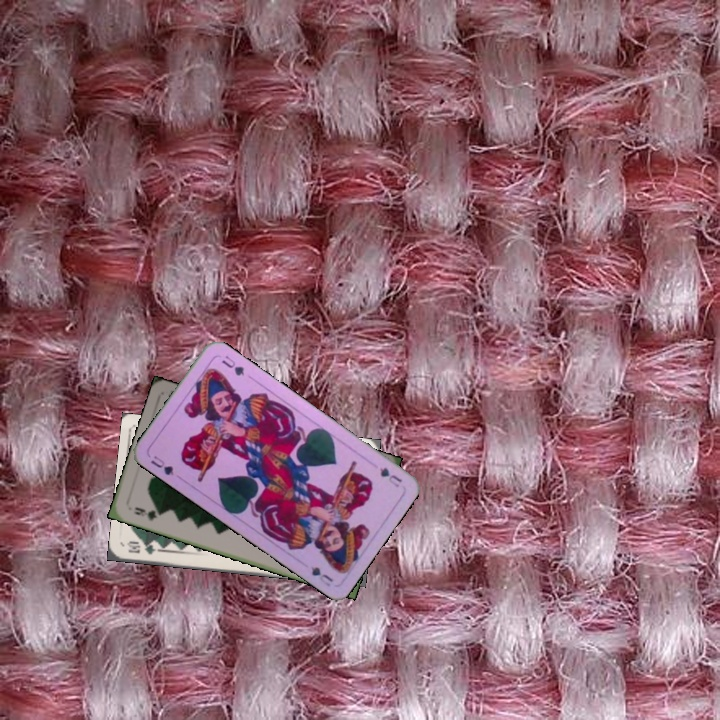G10: (123, 538, 164, 557)
G9: (130, 503, 166, 524)
GU: (376, 463, 404, 490), (147, 452, 176, 478)
